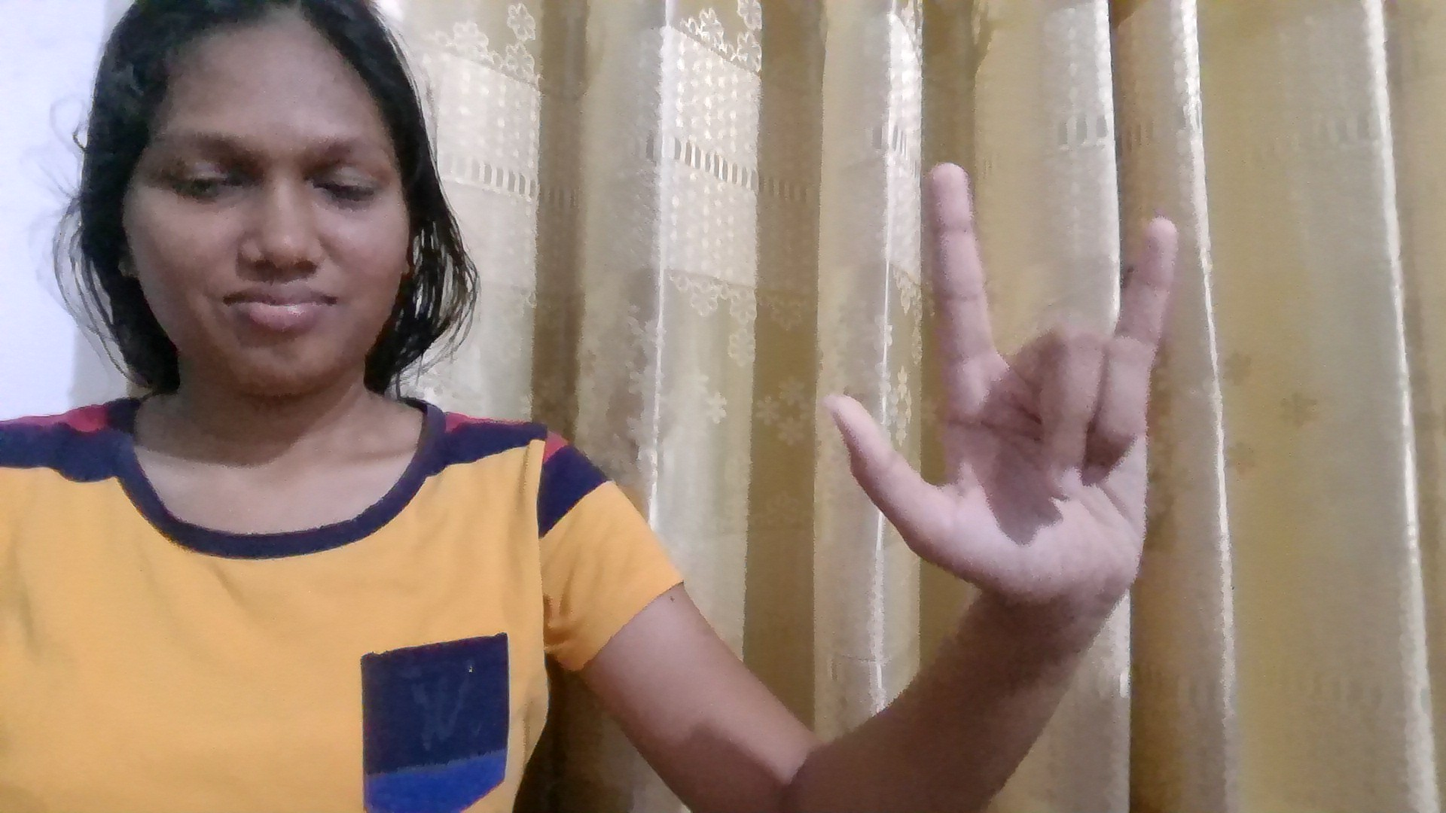I Love You: (699, 123, 1256, 622)
